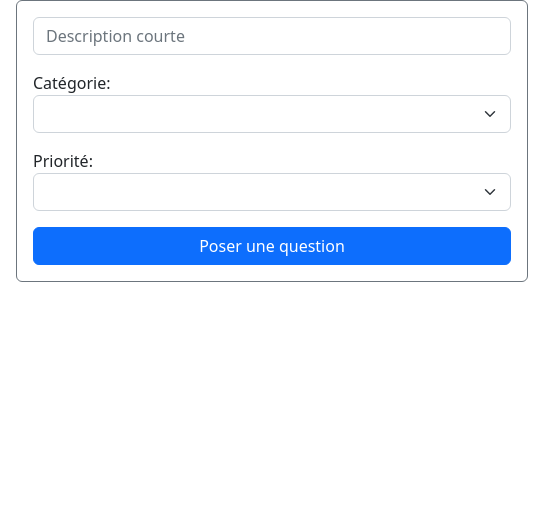
Scenario: QuestionForm › Doit afficher tous les erreurs lors du click sur le bouton.
The width and height of the screenshot is (545, 518).
Click the button "Poser une question" at (272, 246), box [33,227,511,265]
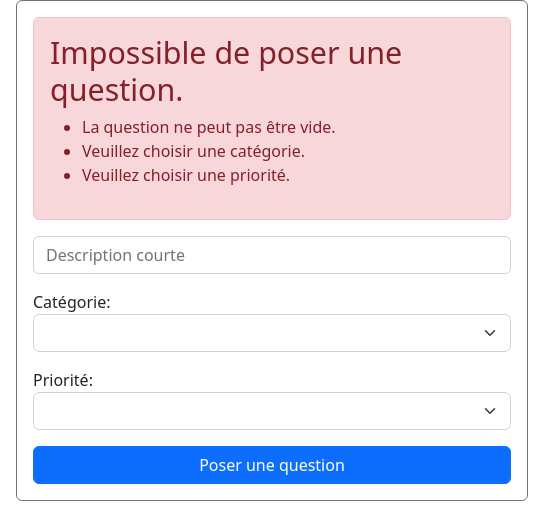
expect the form shows "La question ne peut pas être vide.": met, box [82,116,336,138]
expect the form shows "Veuillez choisir une catégorie.": met, box [82,140,305,162]
expect the form shows "Veuillez choisir une priorité.": met, box [82,164,290,186]
